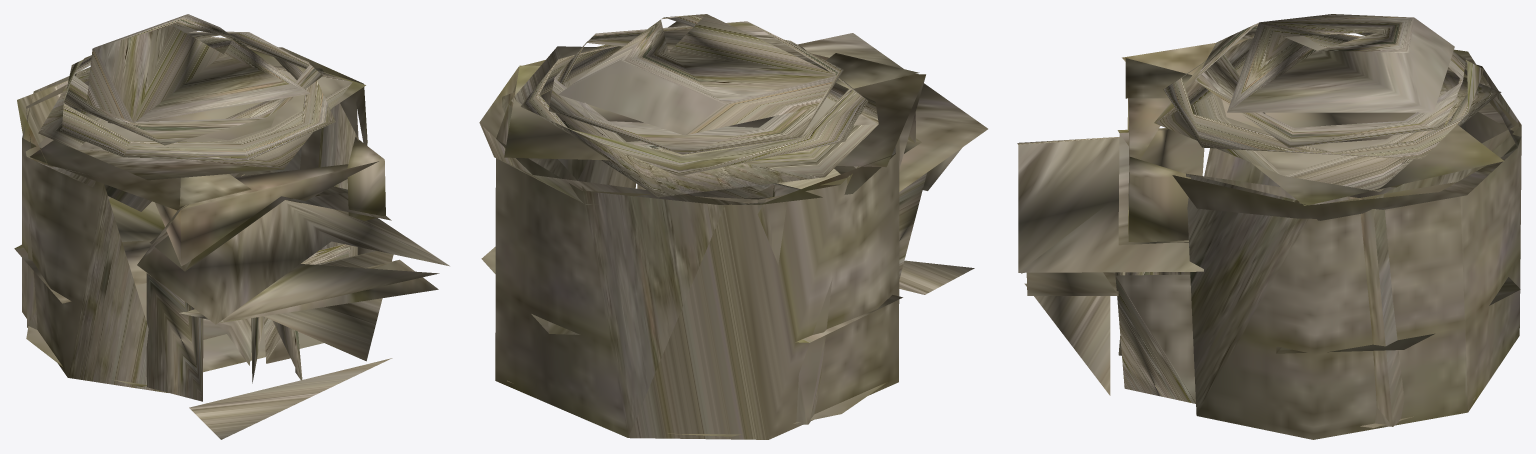
File: Pantheon.glb
3 views of the same model, side by side, from view 1: azimuth 30°, elevation 25°; view 2: azimuth 150°, elevation 25°; view 3: azimuth 270°, elevation 25° (orthographic). The views are drawn at different scales.
Parts seen in each view (by area): view 1: Pantheon; view 2: Pantheon; view 3: Pantheon.
Part boxes in pixels (left/top/right/bottom): Pantheon: left=14, top=14, right=449, bottom=439; Pantheon: left=479, top=14, right=987, bottom=439; Pantheon: left=1017, top=14, right=1521, bottom=439.
Bounding box in the file's own units: 0.8261 × 0.6797 × 0.9727.
1 material, 1 textured.
